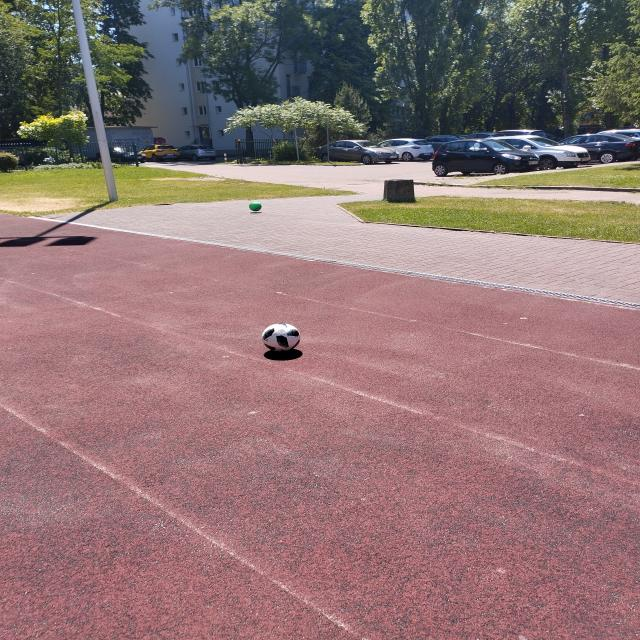nozna: (262, 323, 301, 352)
